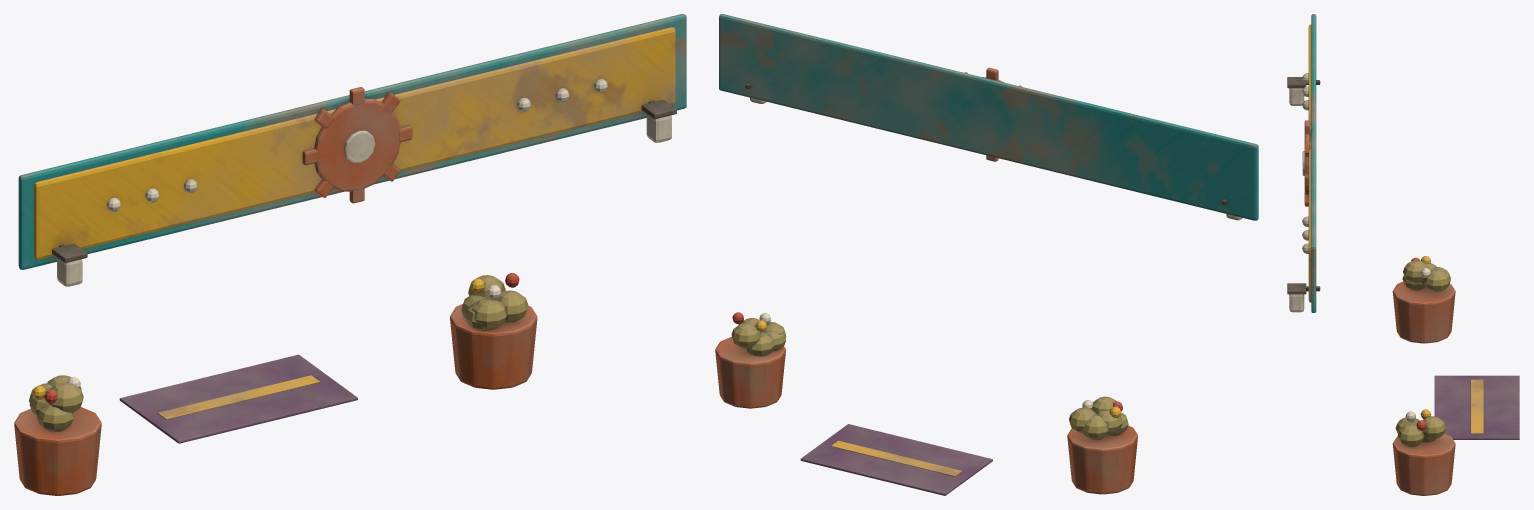
Rendered from entrance_improvement.glb.
The picture shows the model from 3 angles, left to right: view 1: azimuth 30°, elevation 25°; view 2: azimuth 150°, elevation 25°; view 3: azimuth 270°, elevation 25°; orthographic projection. The views are drawn at different scales.
Visible parts, largest first — view 1: EntranceImprovement_Mesh, PlanterW_Mesh, PlanterE_Mesh, LanternW_Mesh, LanternE_Mesh; view 2: EntranceImprovement_Mesh, PlanterW_Mesh, PlanterE_Mesh; view 3: EntranceImprovement_Mesh, PlanterE_Mesh, PlanterW_Mesh, LanternE_Mesh, LanternW_Mesh.
Boxes of the visible parts, x1,y1,x2,y2 form: EntranceImprovement_Mesh: (18,14,686,443); PlanterW_Mesh: (14,375,101,495); PlanterE_Mesh: (450,273,537,389); LanternW_Mesh: (52,243,87,286); LanternE_Mesh: (641,100,676,142); EntranceImprovement_Mesh: (719,14,1258,495); PlanterW_Mesh: (1067,396,1137,494); PlanterE_Mesh: (715,312,786,408); EntranceImprovement_Mesh: (1302,14,1519,439); PlanterE_Mesh: (1392,409,1455,495); PlanterW_Mesh: (1392,256,1455,343); LanternE_Mesh: (1287,283,1320,312); LanternW_Mesh: (1287,77,1320,105).
Size of the model in its own units: 5.2 by 2.97 by 2.19.
5 materials, 5 textured.
